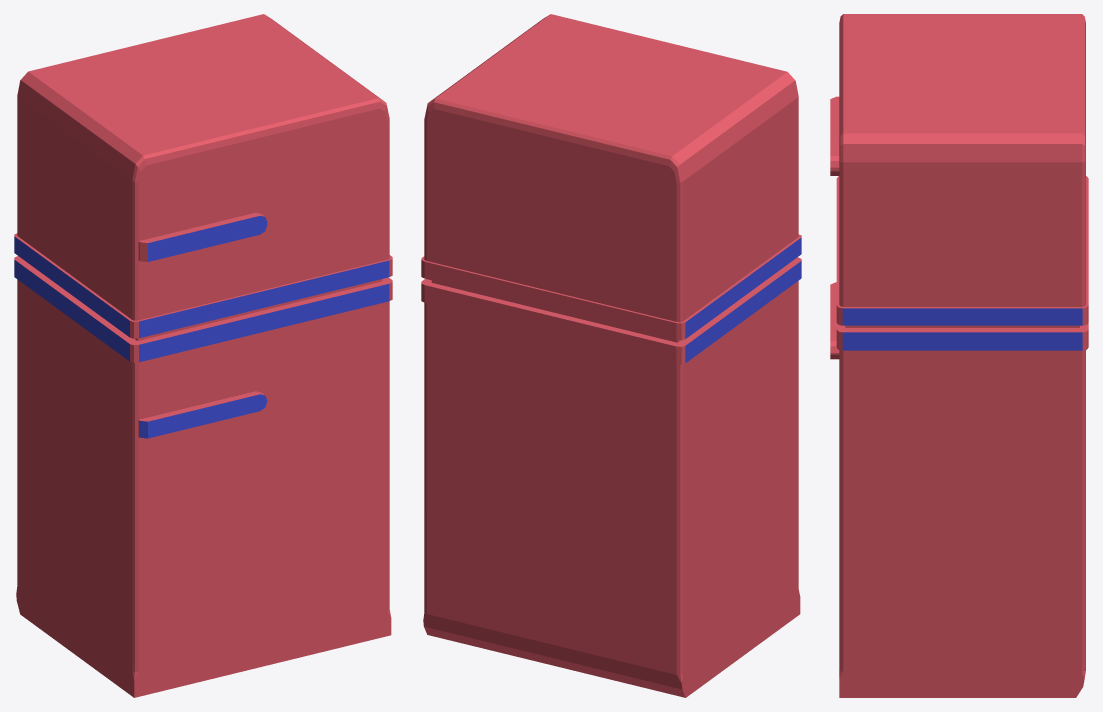
Rendered from Fridge.fbx.
The picture shows the model from 3 angles, left to right: view 1: azimuth 30°, elevation 25°; view 2: azimuth 150°, elevation 25°; view 3: azimuth 270°, elevation 25°; orthographic projection. The views are drawn at different scales.
Parts seen in each view (by area): view 1: Fridge; view 2: Fridge; view 3: Fridge.
Boxes of the visible parts, box(x1,y1,x2,y2) form: Fridge: box(14, 14, 392, 697); Fridge: box(421, 14, 801, 697); Fridge: box(830, 14, 1088, 697).
Size of the model in its own units: 148 by 291 by 122.
